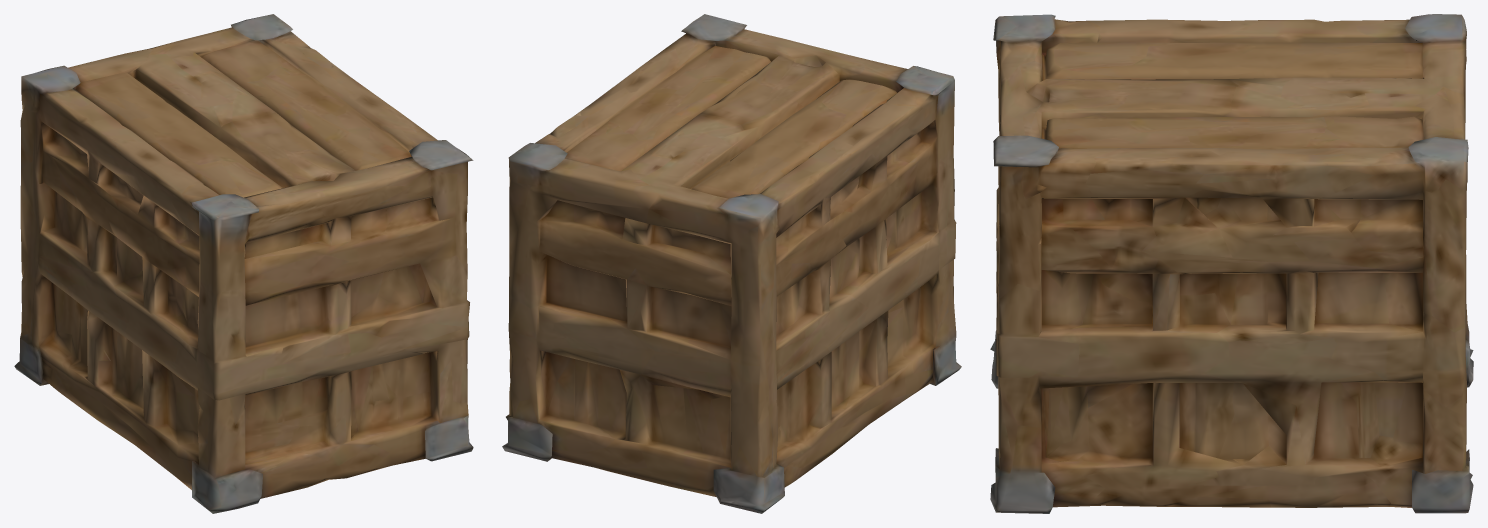
Rendered from crate-v2.glb.
3 renders of one model, left to right at view 1: azimuth 30°, elevation 25°; view 2: azimuth 150°, elevation 25°; view 3: azimuth 270°, elevation 25°, orthographic. The views are drawn at different scales.
Parts seen in each view (by area): view 1: prop__crate; view 2: prop__crate; view 3: prop__crate.
Part boxes in pixels (x1,y1,x2,y2): prop__crate: (14, 14, 473, 513); prop__crate: (502, 14, 961, 513); prop__crate: (990, 14, 1473, 513).
Bounding box in the file's own units: 0.5071 × 0.55 × 0.6752.
Materials: 1 (1 with a texture image).
